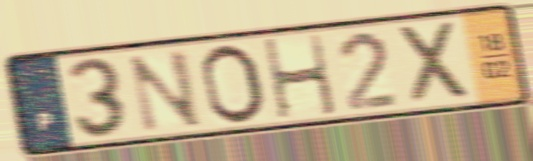2: (334, 28, 402, 113)
3: (65, 55, 132, 141)
H: (260, 31, 341, 123)
N: (125, 46, 206, 136)
O: (198, 41, 270, 128)
X: (394, 17, 476, 109)
